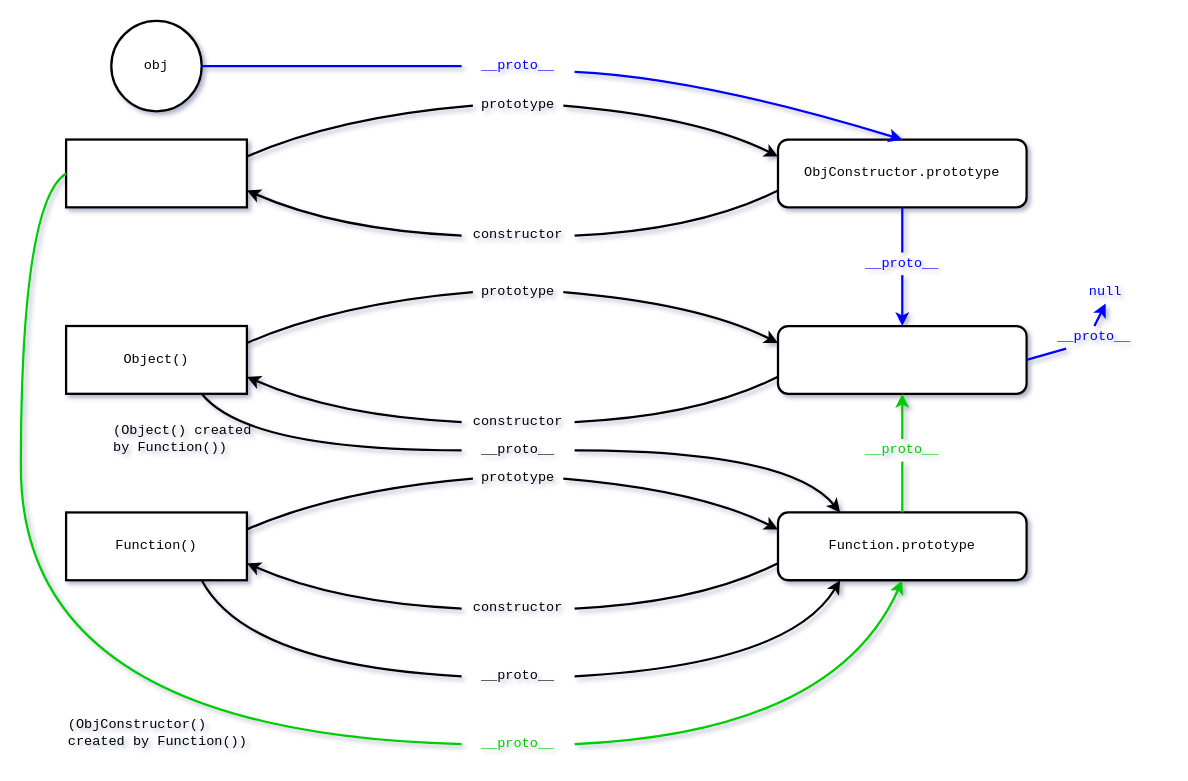
This 1188x781 diagram has some shape labels left out. Here are the shapes that lost their labels. From the top down, the centre of each, then its label:
At (x=155, y=173): "ObjConstructor()".
At (x=901, y=359): "Object.prototype".
